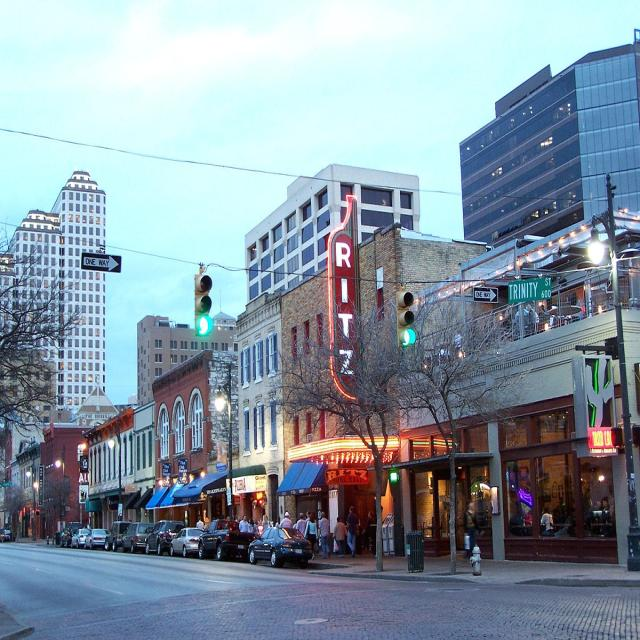body: (203, 512, 307, 532), (461, 500, 478, 560), (522, 506, 562, 531), (591, 500, 619, 535), (302, 511, 319, 562), (345, 505, 360, 558), (554, 507, 573, 545), (331, 515, 347, 559), (318, 510, 332, 560), (362, 509, 376, 551), (540, 505, 556, 537), (582, 485, 592, 529), (296, 512, 307, 537), (261, 513, 272, 535), (279, 512, 293, 528), (238, 514, 249, 533), (247, 518, 254, 542), (304, 510, 312, 525), (196, 515, 204, 529), (234, 514, 240, 524)
